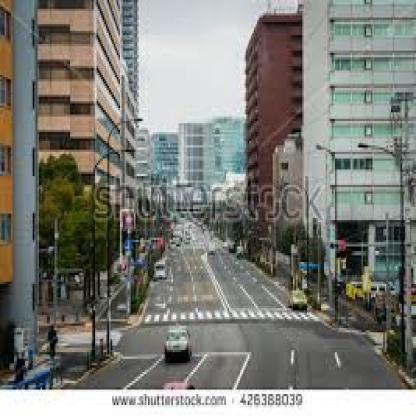car: (163, 320, 198, 360)
